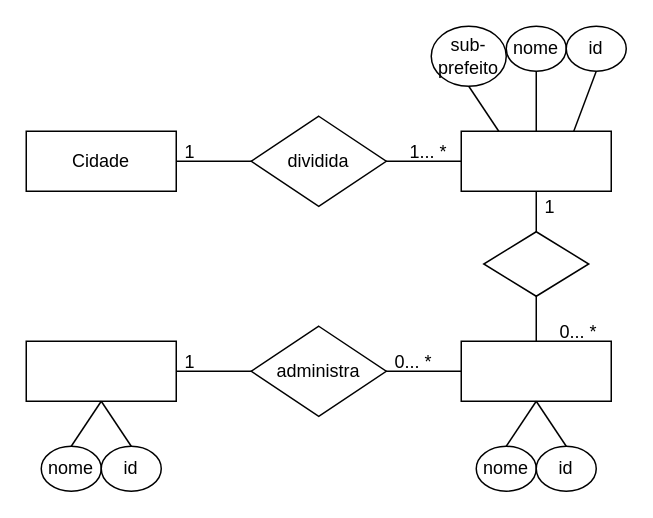
Image size: 653x518. Some labels were removed from this diagram. The shapes that lost their labels are listed below. From the top down, each one's box as (x1, y1, x2, y2) in pixels, then its label:
(460, 130, 611, 191): Região
(482, 230, 589, 296): tem
(25, 340, 176, 401): Administradora
(460, 340, 611, 401): Parque
